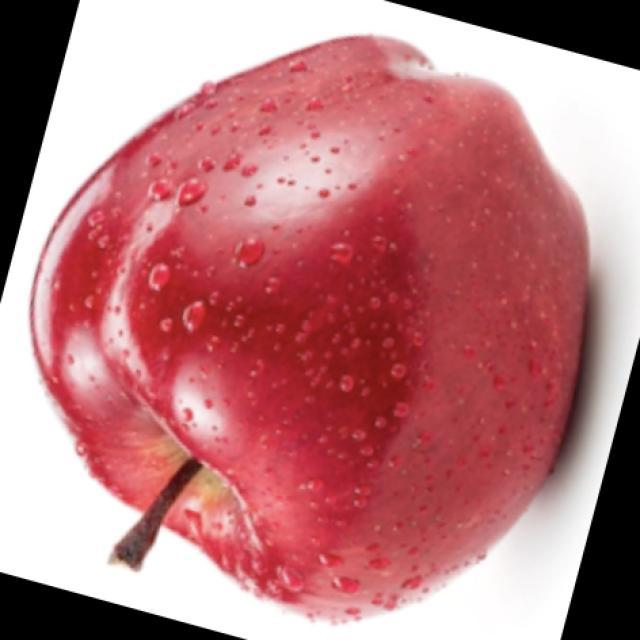Apple: (27, 32, 591, 625)
